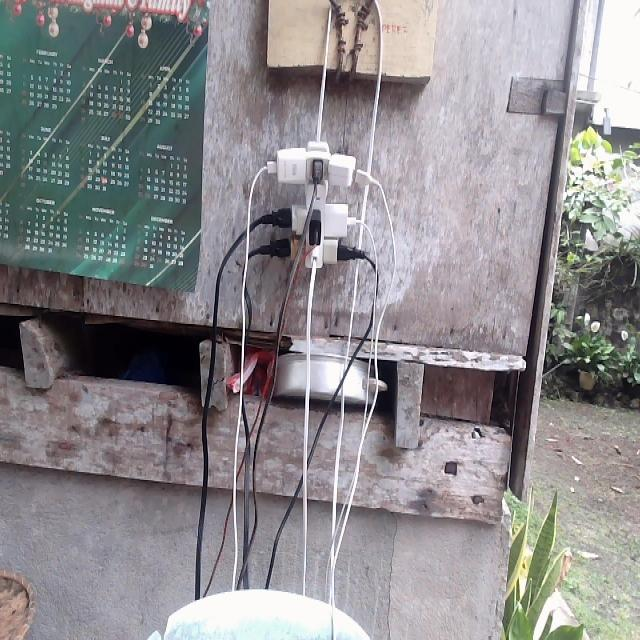-: (255, 137, 378, 272)
